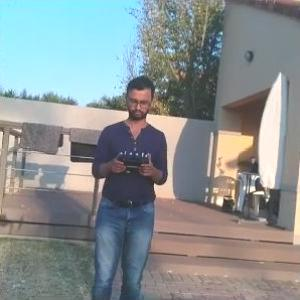follow: (84, 72, 173, 299)
